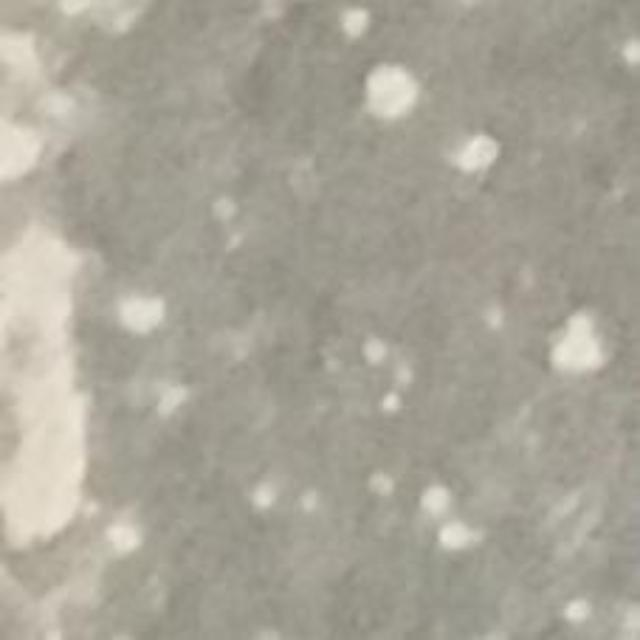peeling plaster: (0, 223, 93, 546)
